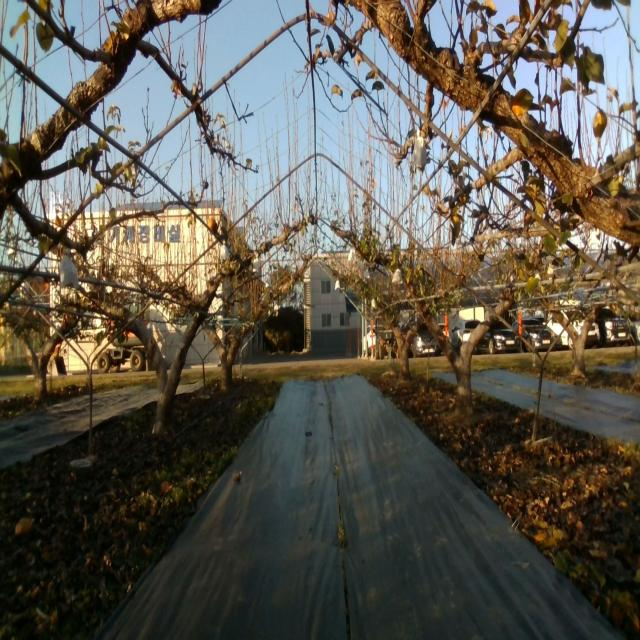pearbags: (60, 247, 79, 290), (414, 128, 426, 177), (220, 240, 230, 264)
